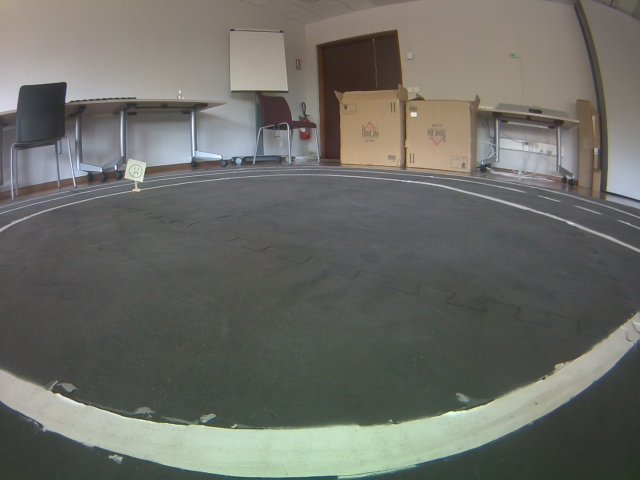Smiley: (119, 158, 149, 185)
